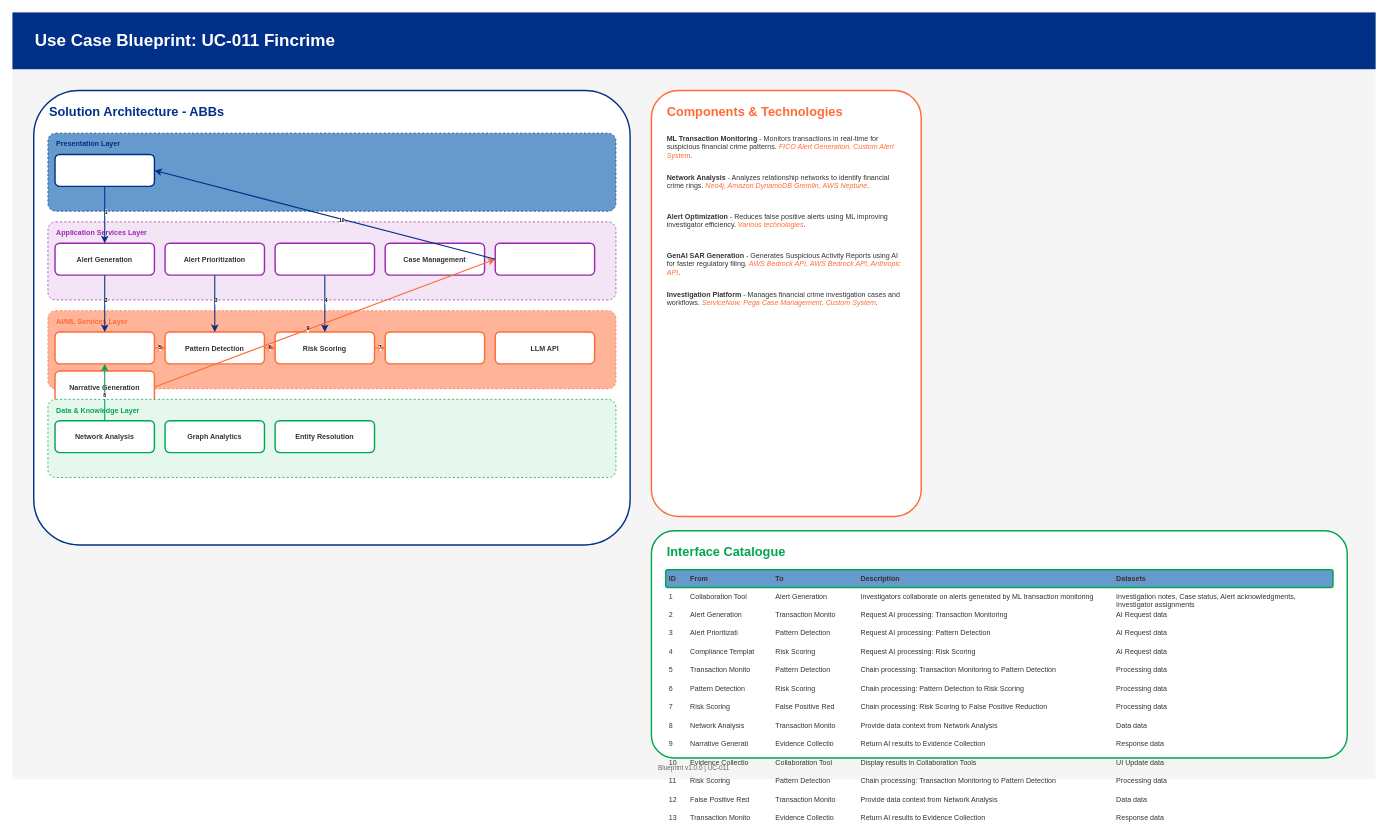
Some shapes in this 1387 by 839 pixel diagram are drawn without their labels. Here are the shapes that lost their labels. From the top down, the centre of each, then its label:
(x=104, y=170): Collaboration Tools
(x=324, y=258): Compliance Templates
(x=544, y=258): Evidence Collection
(x=104, y=347): Transaction Monitoring
(x=434, y=347): False Positive Reduction
